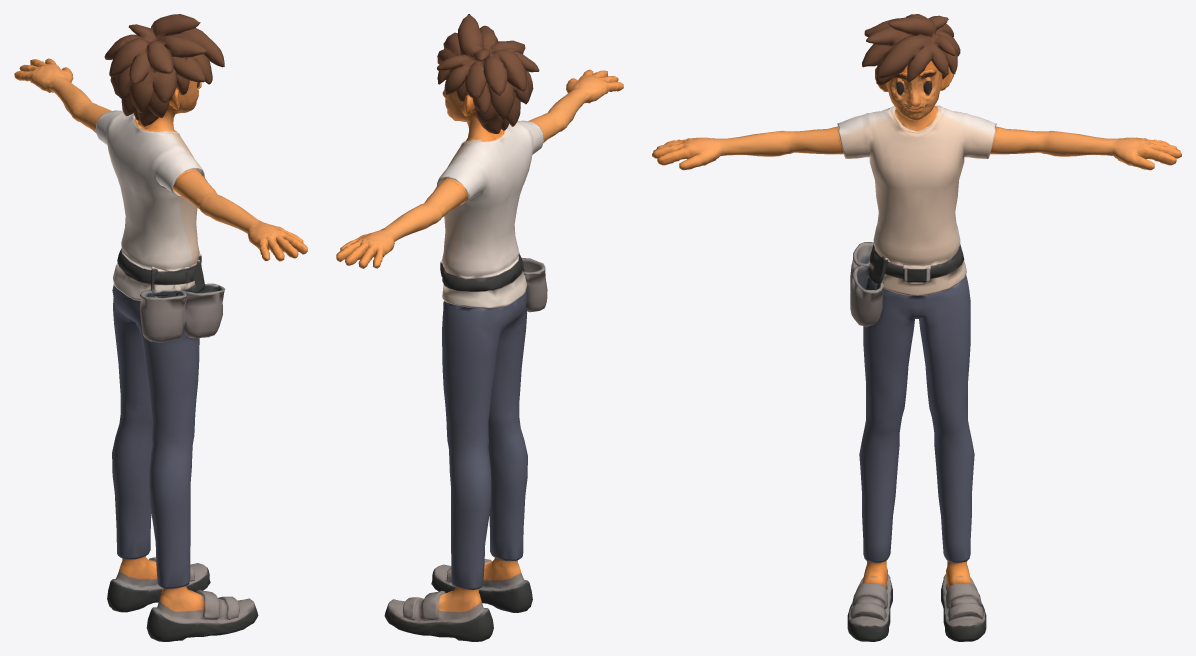
3 renders of one model, left to right at view 1: azimuth 30°, elevation 25°; view 2: azimuth 150°, elevation 25°; view 3: azimuth 270°, elevation 25°, orthographic.
Parts seen in each view (by area): view 1: tripo_node_1f0174d2-45be-44d3-8d1c-94f080fc5cf5; view 2: tripo_node_1f0174d2-45be-44d3-8d1c-94f080fc5cf5; view 3: tripo_node_1f0174d2-45be-44d3-8d1c-94f080fc5cf5.
Part boxes in pixels (<box>): tripo_node_1f0174d2-45be-44d3-8d1c-94f080fc5cf5: <box>14,14,307,641</box>; tripo_node_1f0174d2-45be-44d3-8d1c-94f080fc5cf5: <box>336,14,623,641</box>; tripo_node_1f0174d2-45be-44d3-8d1c-94f080fc5cf5: <box>652,14,1181,641</box>.
Size of the model in its own units: 0.209 by 0.998 by 0.7988.
1 material, 1 textured.
